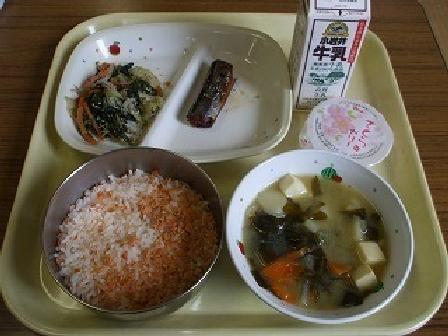Cup desserts: (305, 97, 392, 166)
Fish: (188, 46, 256, 130)
Milk: (282, 0, 382, 113)
Mixed rice: (32, 150, 223, 315)
Salad: (70, 53, 161, 143)
Soups: (235, 150, 402, 315)
